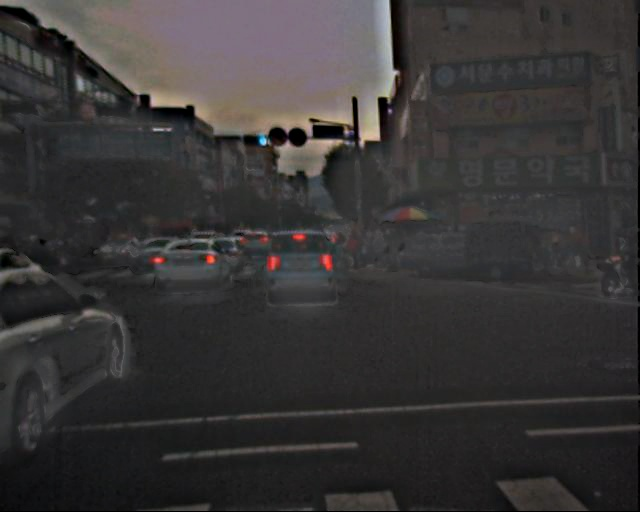person: (346, 228, 410, 271), (570, 222, 591, 273)
